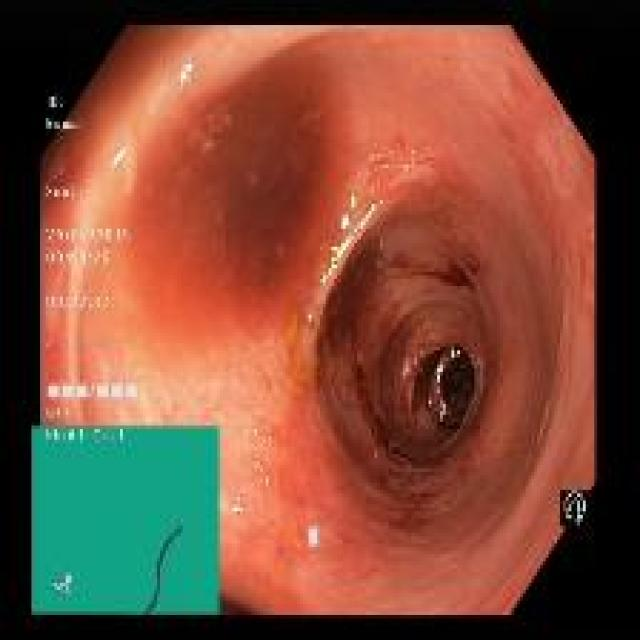ulcerative-colitis: (42, 27, 595, 614)
